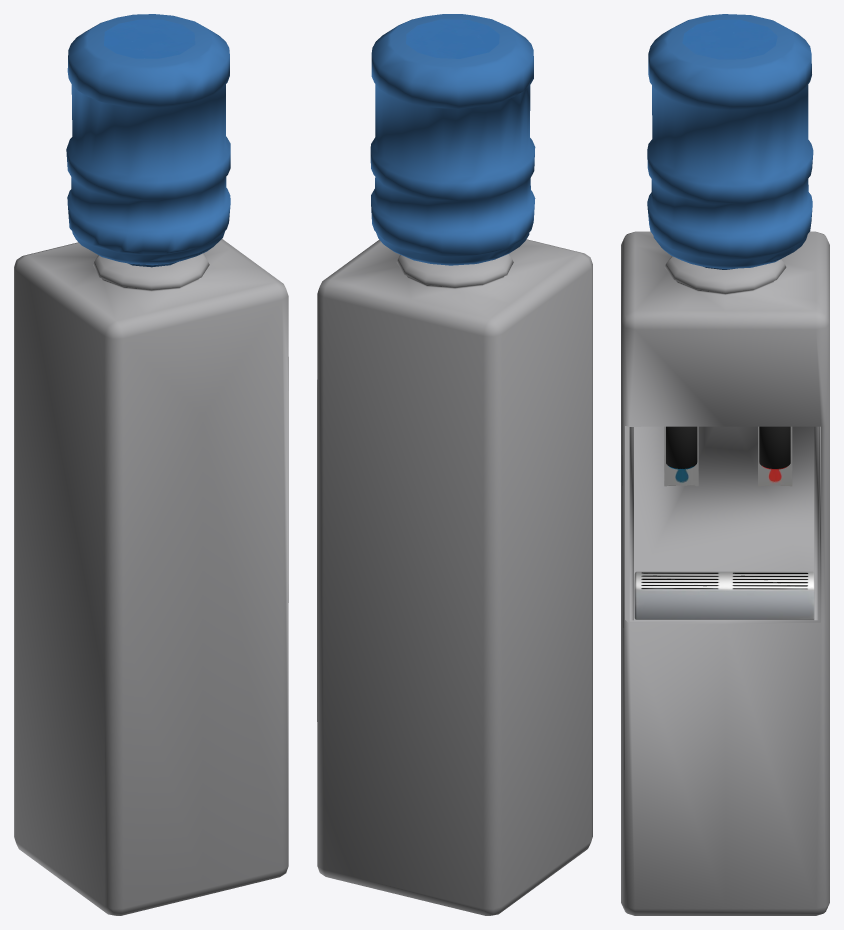
Rendered from water_dispenser.glb.
3 renders of one model, left to right at view 1: azimuth 30°, elevation 25°; view 2: azimuth 150°, elevation 25°; view 3: azimuth 270°, elevation 25°, orthographic.
Visible parts, largest first — view 1: Object_4, Object_10; view 2: Object_4, Object_10; view 3: Object_4, Object_10, Object_6, Object_8, Object_12.
Boxes of the visible parts, box(x1,y1,x2,y2) form: Object_4: box(14, 239, 288, 915); Object_10: box(66, 14, 230, 267); Object_4: box(317, 239, 592, 915); Object_10: box(370, 14, 535, 265); Object_4: box(621, 231, 829, 915); Object_10: box(647, 14, 813, 269); Object_6: box(634, 571, 814, 619); Object_8: box(664, 426, 698, 486); Object_12: box(758, 426, 792, 486).
Bounding box in the file's own units: 1.38 × 5.93 × 1.34.
Materials: 5 (4 with a texture image).
